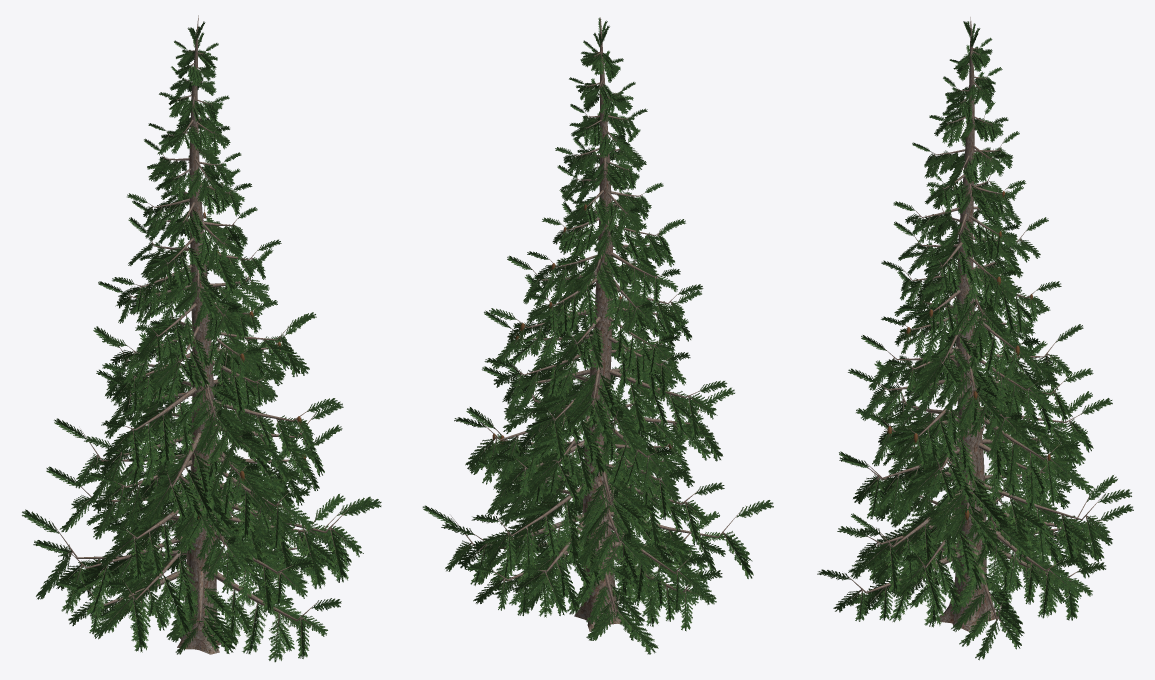
File: norway-spruce.glb
3 views of the same model, side by side, from view 1: azimuth 30°, elevation 25°; view 2: azimuth 150°, elevation 25°; view 3: azimuth 270°, elevation 25° (orthographic). The views are drawn at different scales.
Parts seen in each view (by area): view 1: Norway Spruce; view 2: Norway Spruce; view 3: Norway Spruce.
Boxes of the visible parts, x1,y1,x2,y2 form: Norway Spruce: [22, 15, 381, 662]; Norway Spruce: [422, 17, 773, 654]; Norway Spruce: [817, 17, 1133, 660].
Size of the model in its own units: 6.04 by 11.4 by 5.66.
Materials: 3 (3 with a texture image).
